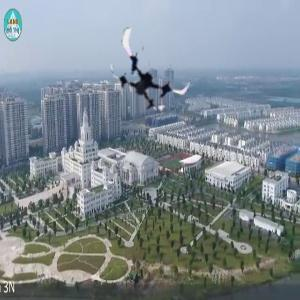drone: (107, 35, 194, 122)
